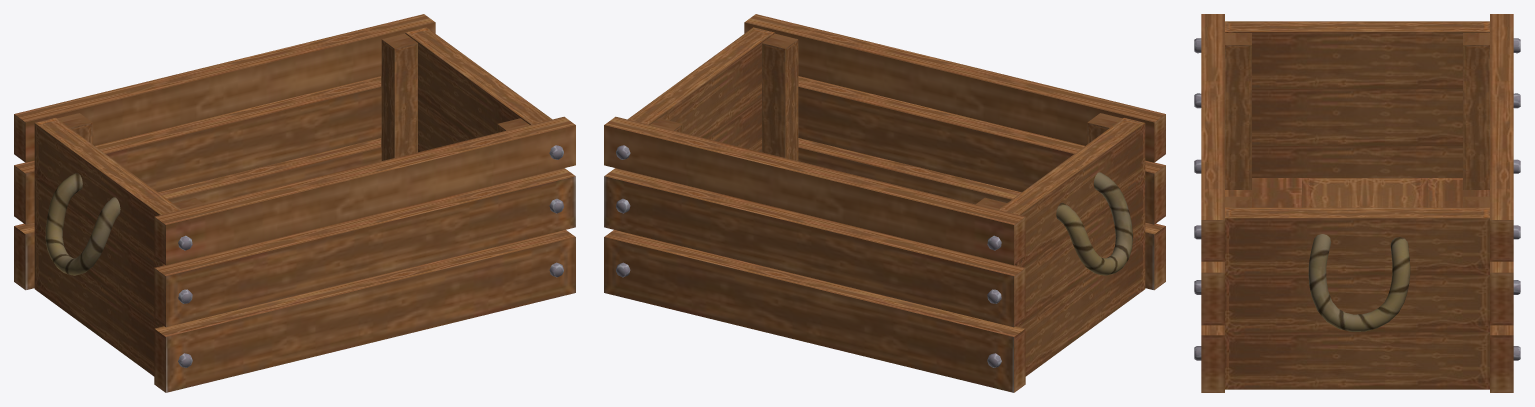
File: farm_crate_empty.glb
3 renders of one model, left to right at view 1: azimuth 30°, elevation 25°; view 2: azimuth 150°, elevation 25°; view 3: azimuth 270°, elevation 25°, orthographic. The views are drawn at different scales.
Visible parts, largest first — view 1: FarmCrate_Empty; view 2: FarmCrate_Empty; view 3: FarmCrate_Empty.
Boxes of the visible parts, x1=… form: FarmCrate_Empty: x1=14, y1=14, x2=575, y2=392; FarmCrate_Empty: x1=604, y1=14, x2=1165, y2=392; FarmCrate_Empty: x1=1194, y1=14, x2=1520, y2=392.
Bounding box in the file's own units: 0.7138 × 0.2438 × 0.4141.
2 materials, 2 textured.
